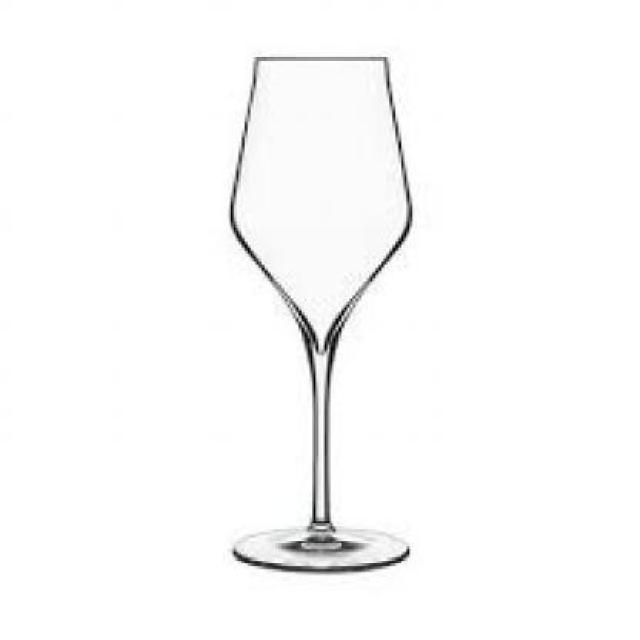kaca: (225, 54, 409, 569)
